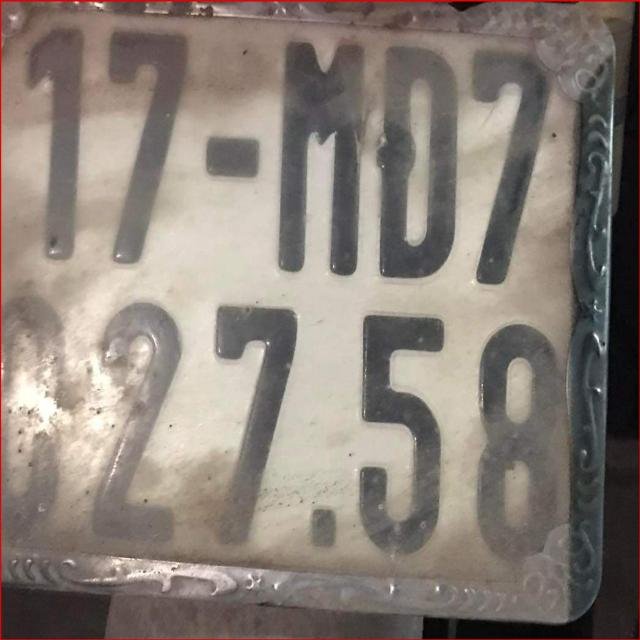1: (16, 22, 94, 268)
2: (90, 289, 188, 541)
5: (346, 304, 453, 555)
7: (202, 289, 302, 550), (100, 21, 192, 266), (463, 39, 552, 288)
8: (467, 313, 565, 564)
D: (370, 41, 464, 286)
M: (269, 31, 368, 276)
